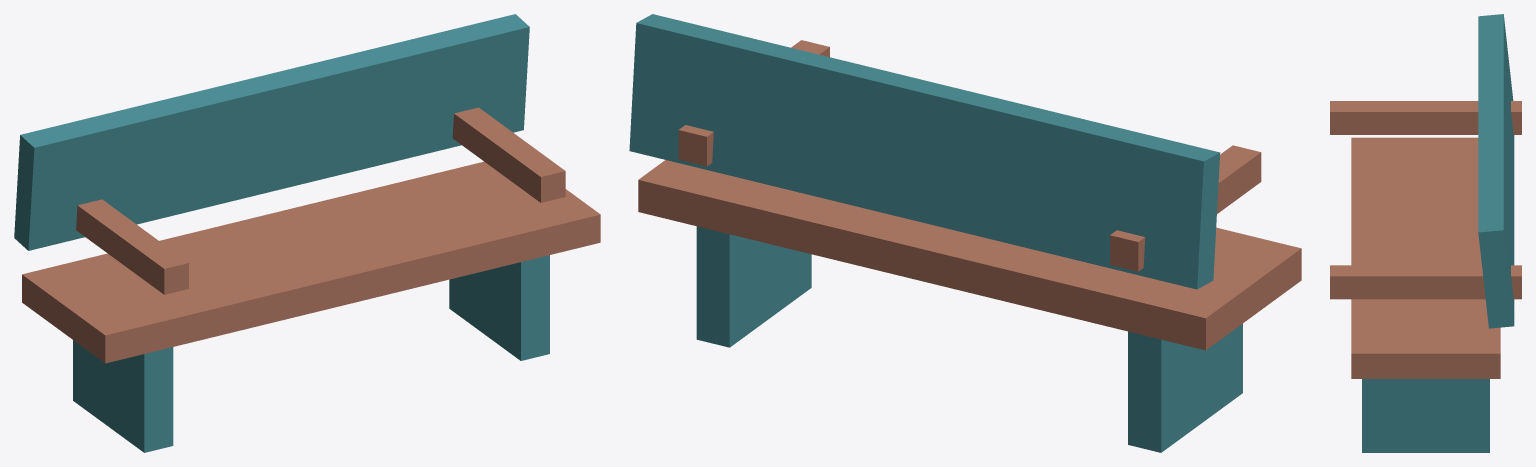
Rendered from prop-square-bench-1.glb.
3 renders of one model, left to right at view 1: azimuth 30°, elevation 25°; view 2: azimuth 150°, elevation 25°; view 3: azimuth 270°, elevation 25°, orthographic. The views are drawn at different scales.
Visible parts, largest first — view 1: bench; view 2: bench; view 3: bench.
Part boxes in pixels (x1,y1,x2,y2): bench: (14, 14, 600, 452); bench: (629, 14, 1301, 452); bench: (1330, 14, 1521, 452).
Bounding box in the file's own units: 2.4 × 1.25 × 0.9.
